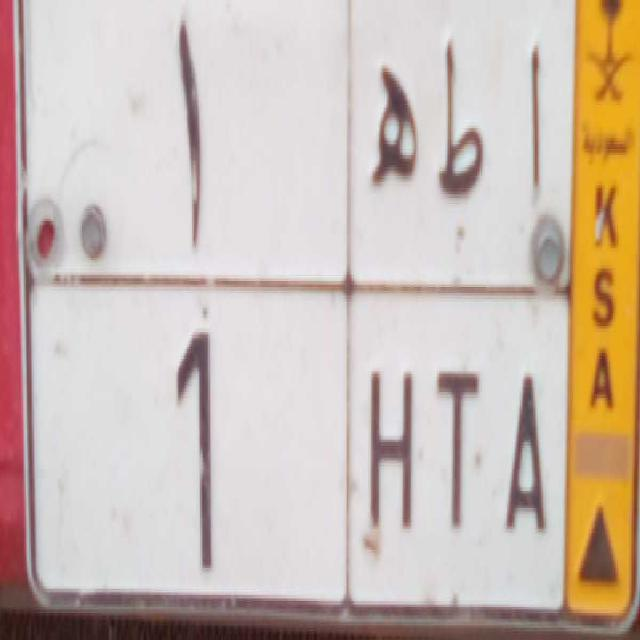license_plate: (24, 271, 567, 621)
